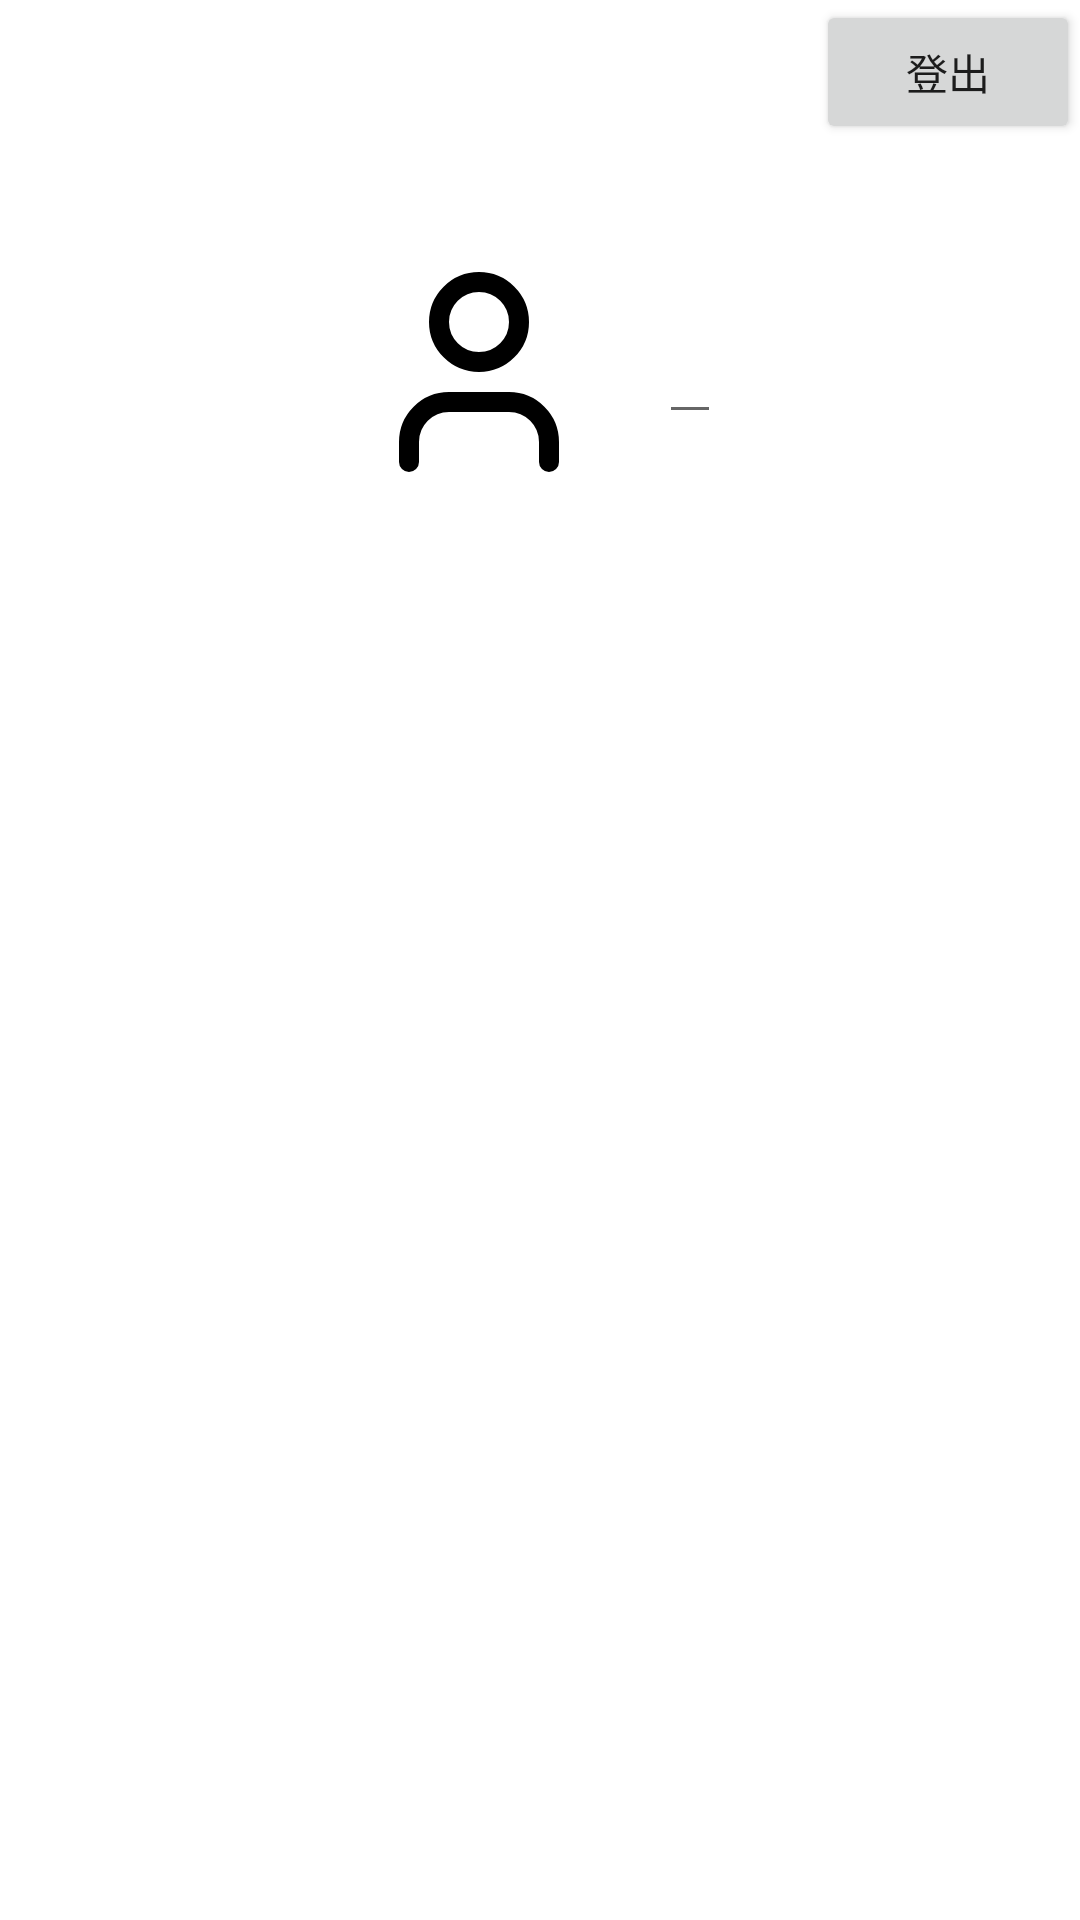

Where icons sit on this 1080px×1920px app screen, as (x1=x1, y1=y1, x2=x2, y2=y2):
user: (x1=399, y1=272, x2=559, y2=472)
